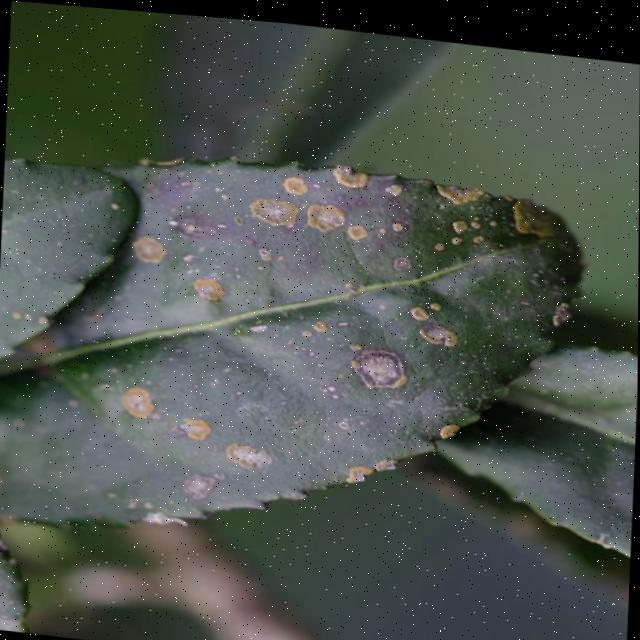Tea algae leaf spot: (72, 134, 581, 552)
